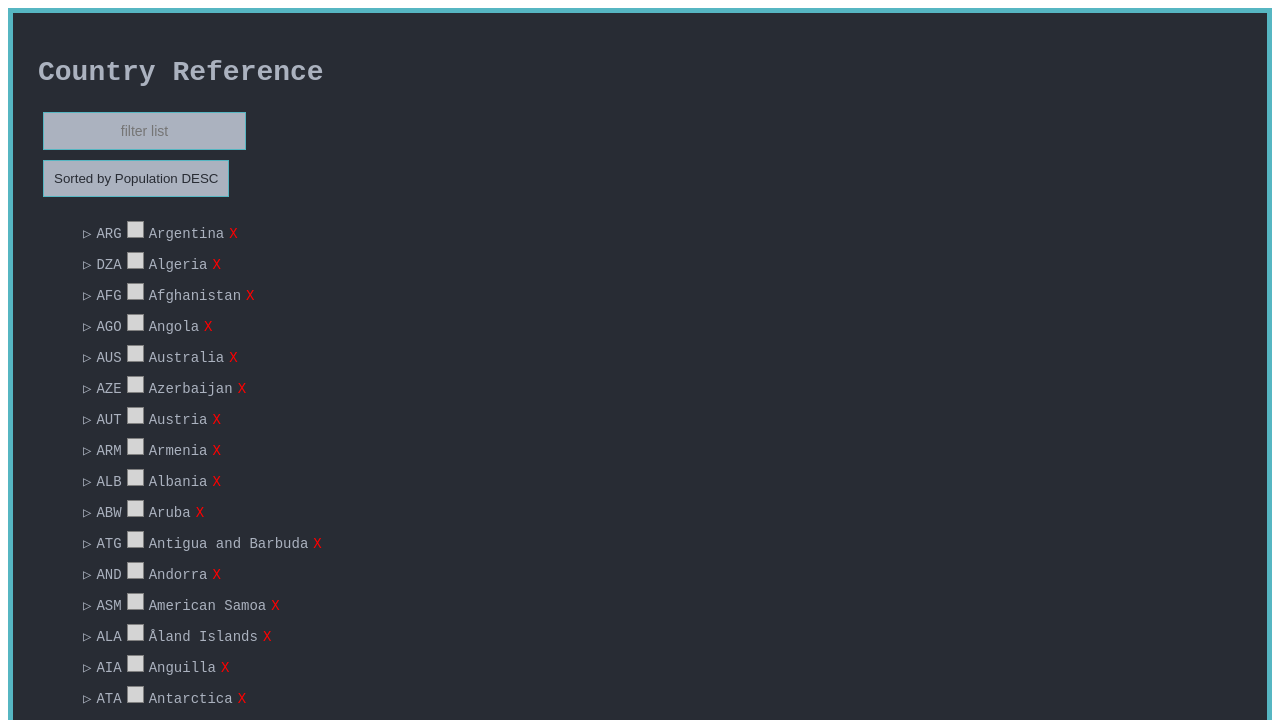
it: tests sorting
The image size is (1280, 720).
Expected: the element with test id "countryLineItem" shows "ARG", x1=96 y1=226 x2=122 y2=242
Note: change the sort to order by ASC
Click the button at (136, 178), box x1=43 y1=160 x2=230 y2=196
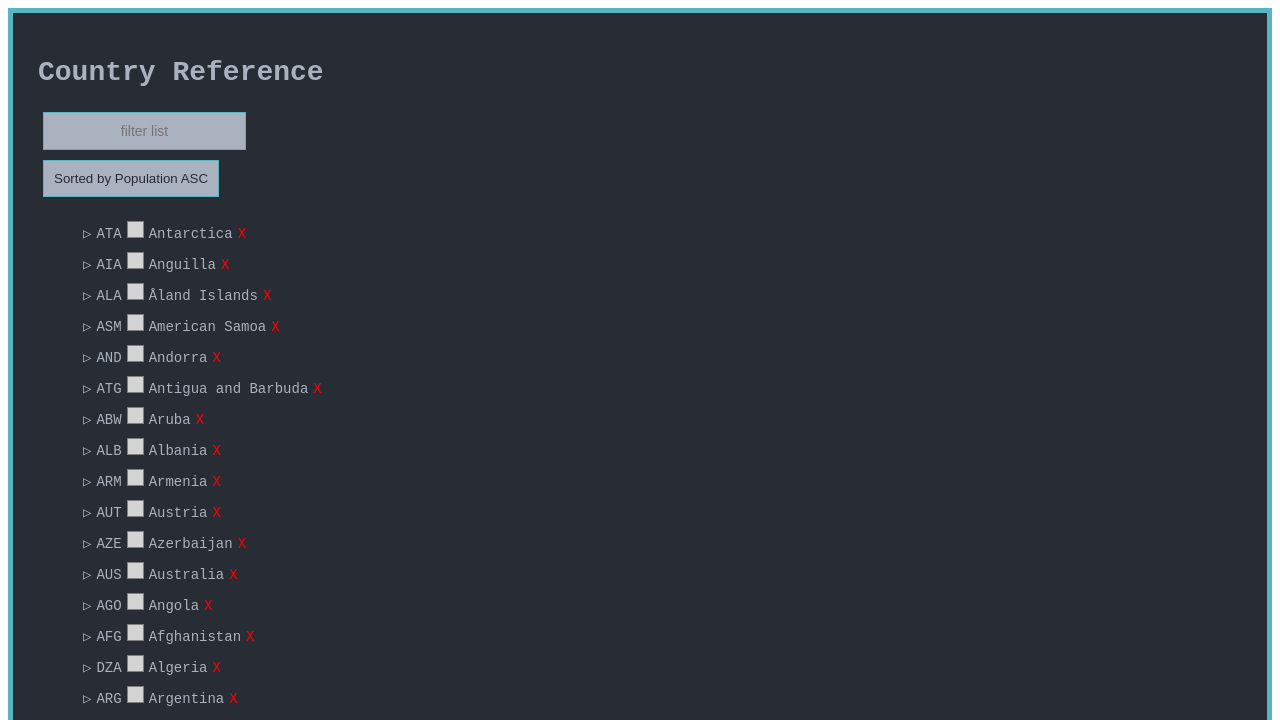
Result: the element with test id "countryLineItem" shows "ATA" at x1=96 y1=226 x2=122 y2=242
